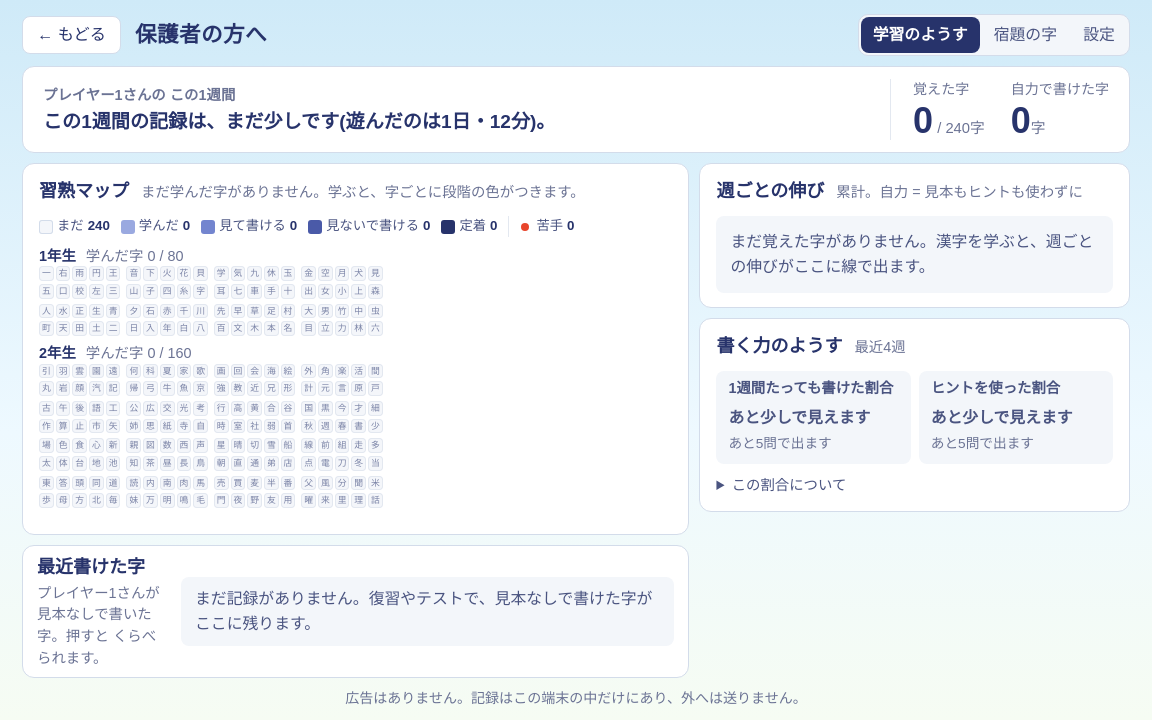
Test: 保護者の画面: 設定 › 1日の時間は 子どもごと。きょうだけの延長と、あと何分 が出る
The width and height of the screenshot is (1152, 720).
Later steps or results of the test are not shown.
Click the tab "設定" at (1099, 35), box [1071,17,1127,53]
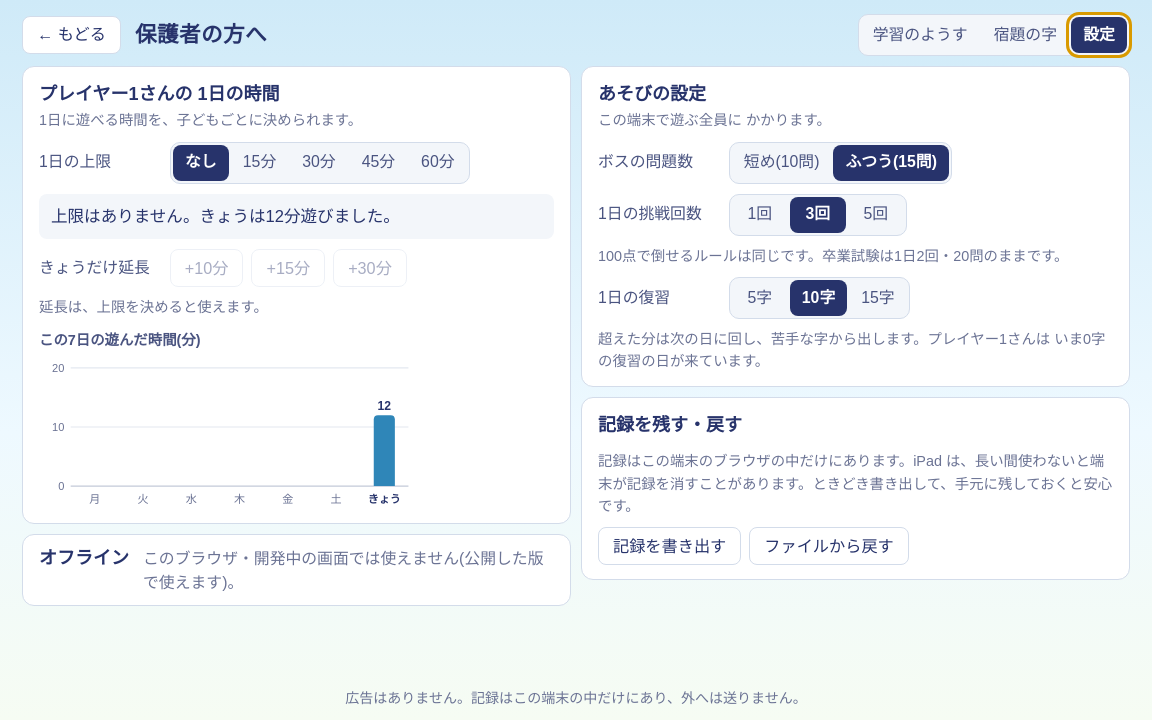
expect the element "プレイヤー1さんの 1日の時間" shows "上限はありません。きょうは12分遊びました。": met, box [51,206,400,226]
expect the button "+10分" is disabled: met, box [170,249,244,287]
Click the button "30分" at (319, 162), box [290,144,348,180]
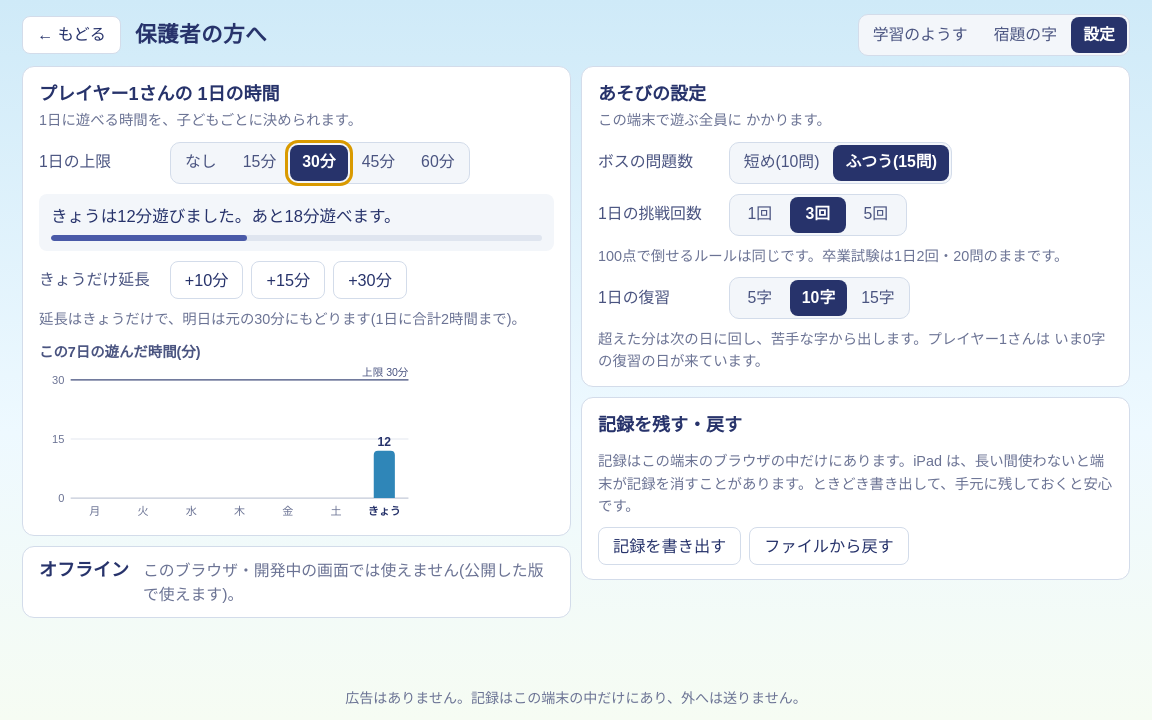
expect the element "プレイヤー1さんの 1日の時間" shows "きょうは12分遊びました。あと18分遊べます。": met, box [51,206,400,226]
Click the button "+15分" at (288, 280), box [252,261,325,299]
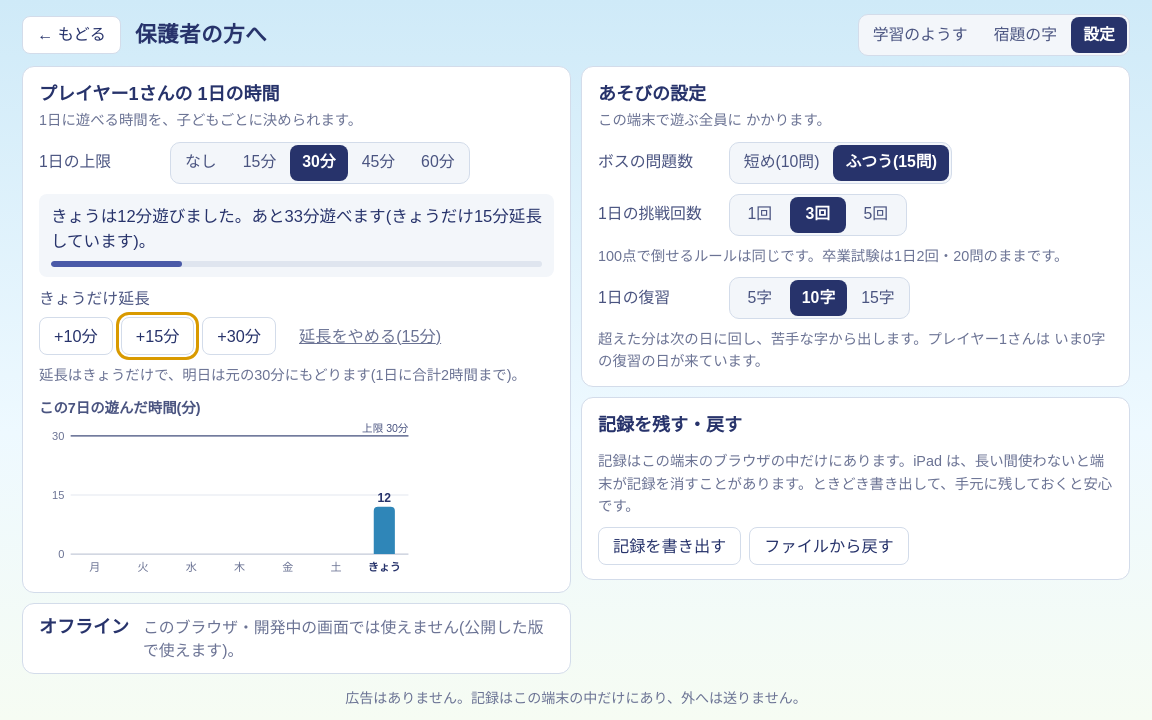
expect the element "プレイヤー1さんの 1日の時間" shows "あと33分遊べます(きょうだけ15分延長しています)": met, box [51,206,542,251]
